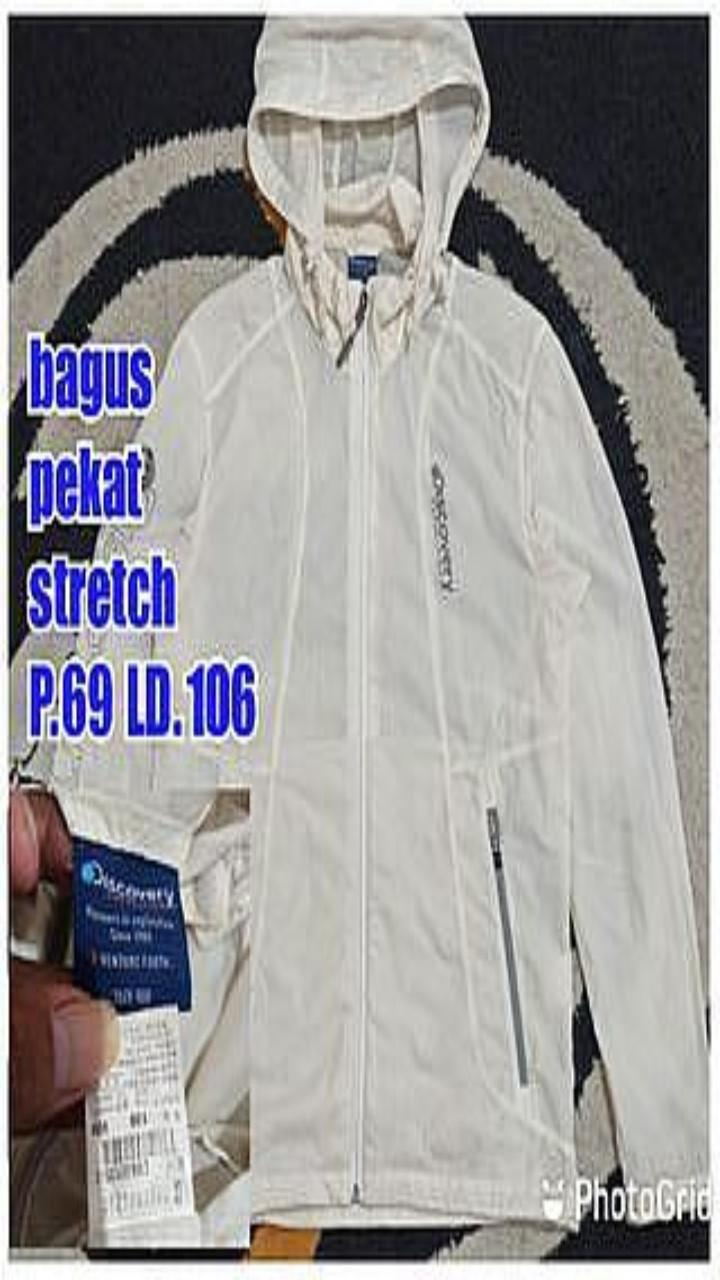Sports_Jacket: (52, 17, 706, 1227)
